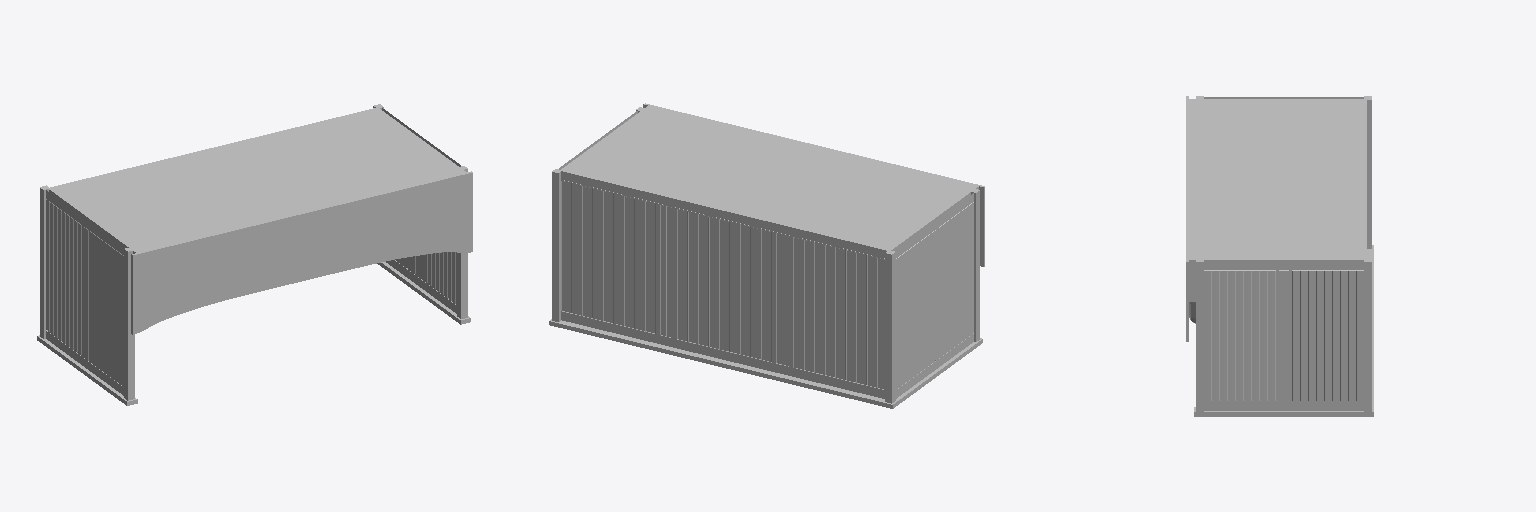
Rendered from bed.obj.
3 renders of one model, left to right at view 1: azimuth 30°, elevation 25°; view 2: azimuth 150°, elevation 25°; view 3: azimuth 270°, elevation 25°, orthographic.
Parts seen in each view (by area): view 1: box_Plane, Plane.001, 1.0_Cube.001, 0_Cube.004, 3.0_Cube.007; view 2: box_Plane, 2.0_Cube.002, 1.0_Cube.001, 0_Cube.004, Plane.001; view 3: box_Plane, 3.0_Cube.007, 0_Cube.004, Plane.001.
Part boxes in pixels (left/top/right/bottom): box_Plane: left=48, top=108, right=466, bottom=253; Plane.001: left=131, top=171, right=472, bottom=334; 1.0_Cube.001: left=46, top=190, right=128, bottom=395; 0_Cube.004: left=37, top=104, right=470, bottom=405; 3.0_Cube.007: left=382, top=108, right=460, bottom=313; box_Plane: left=561, top=106, right=978, bottom=291; 2.0_Cube.002: left=561, top=171, right=884, bottom=398; 1.0_Cube.001: left=891, top=192, right=973, bottom=398; 0_Cube.004: left=549, top=107, right=982, bottom=408; Plane.001: left=643, top=103, right=984, bottom=266; box_Plane: left=1189, top=99, right=1366, bottom=301; 3.0_Cube.007: left=1204, top=260, right=1363, bottom=410; 0_Cube.004: left=1194, top=96, right=1373, bottom=416; Plane.001: left=1186, top=96, right=1188, bottom=341.
Size of the model in its own units: 1.98 by 0.843 by 0.94.